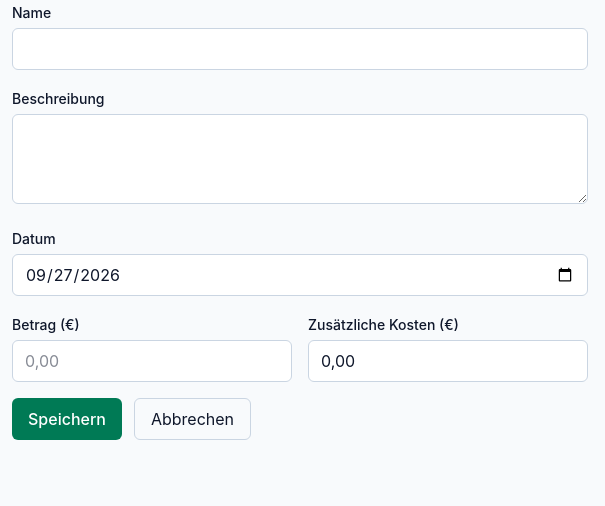
Scenario: BookingForm › shows validation errors and does not submit
Click the button "Speichern" at (67,419), box [12,398,122,440]
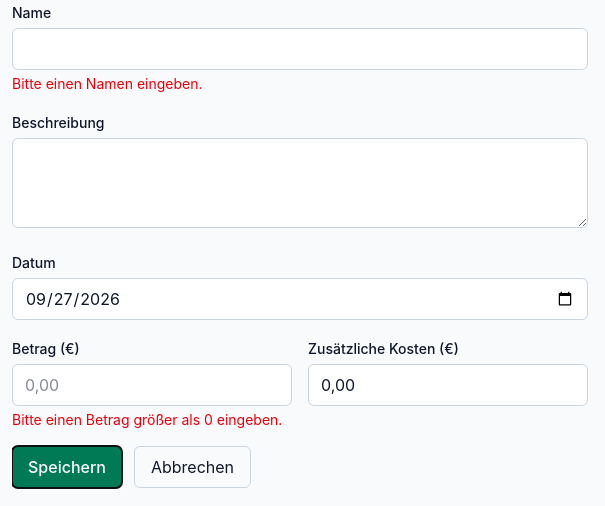
Result: the text "Bitte einen Namen eingeben." is shown at [12,75,202,92]
Result: the text "Bitte einen Betrag größer als 0 eingeben." is shown at [12,410,292,430]
